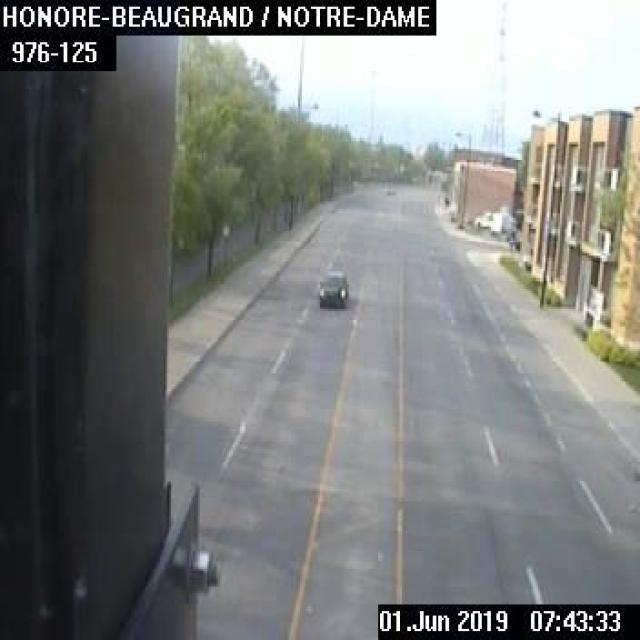vehicle: (315, 269, 349, 309), (472, 211, 492, 226)
